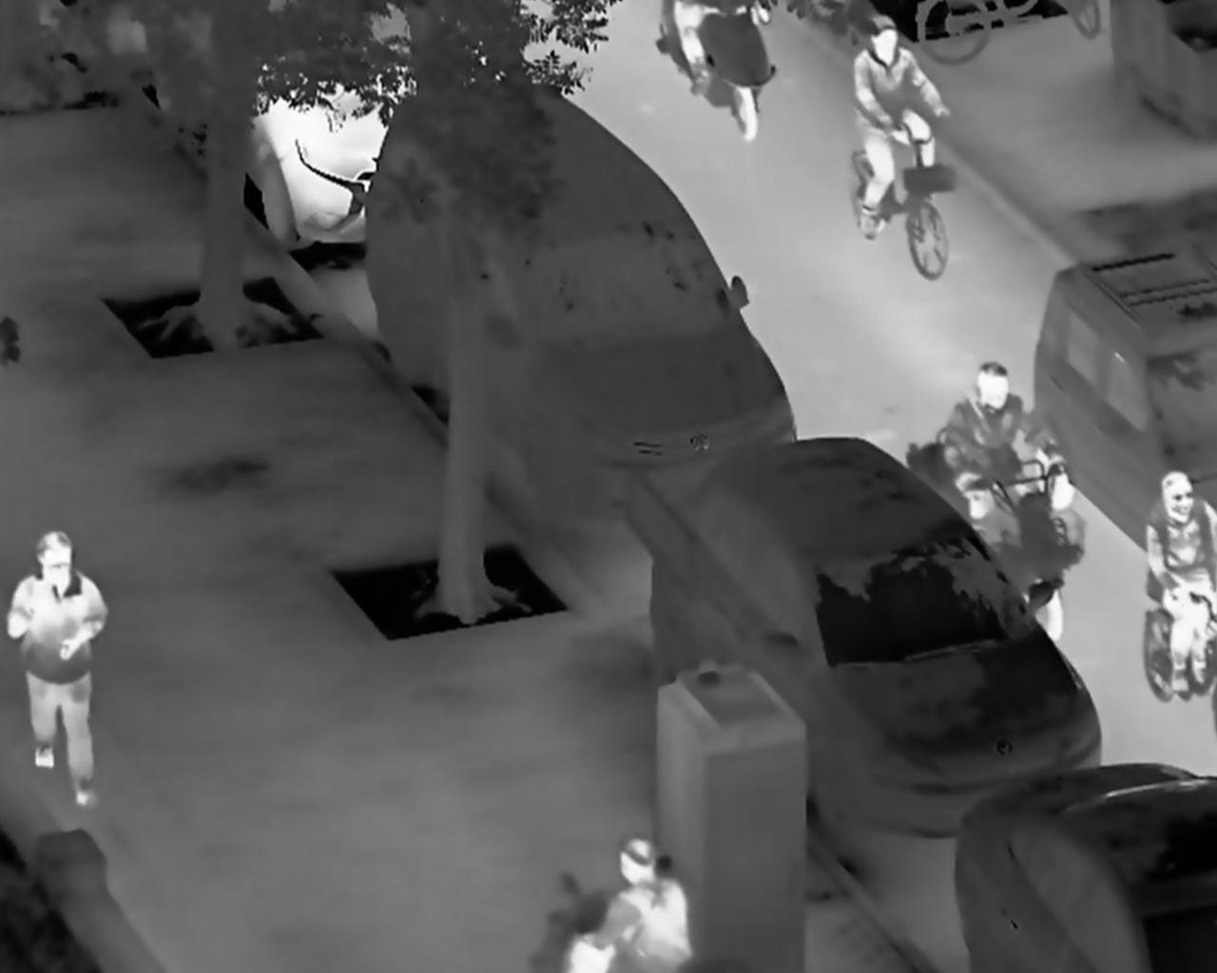person: (941, 353, 1091, 564), (6, 528, 112, 811), (846, 13, 957, 243), (568, 831, 697, 973), (1145, 466, 1217, 703)
